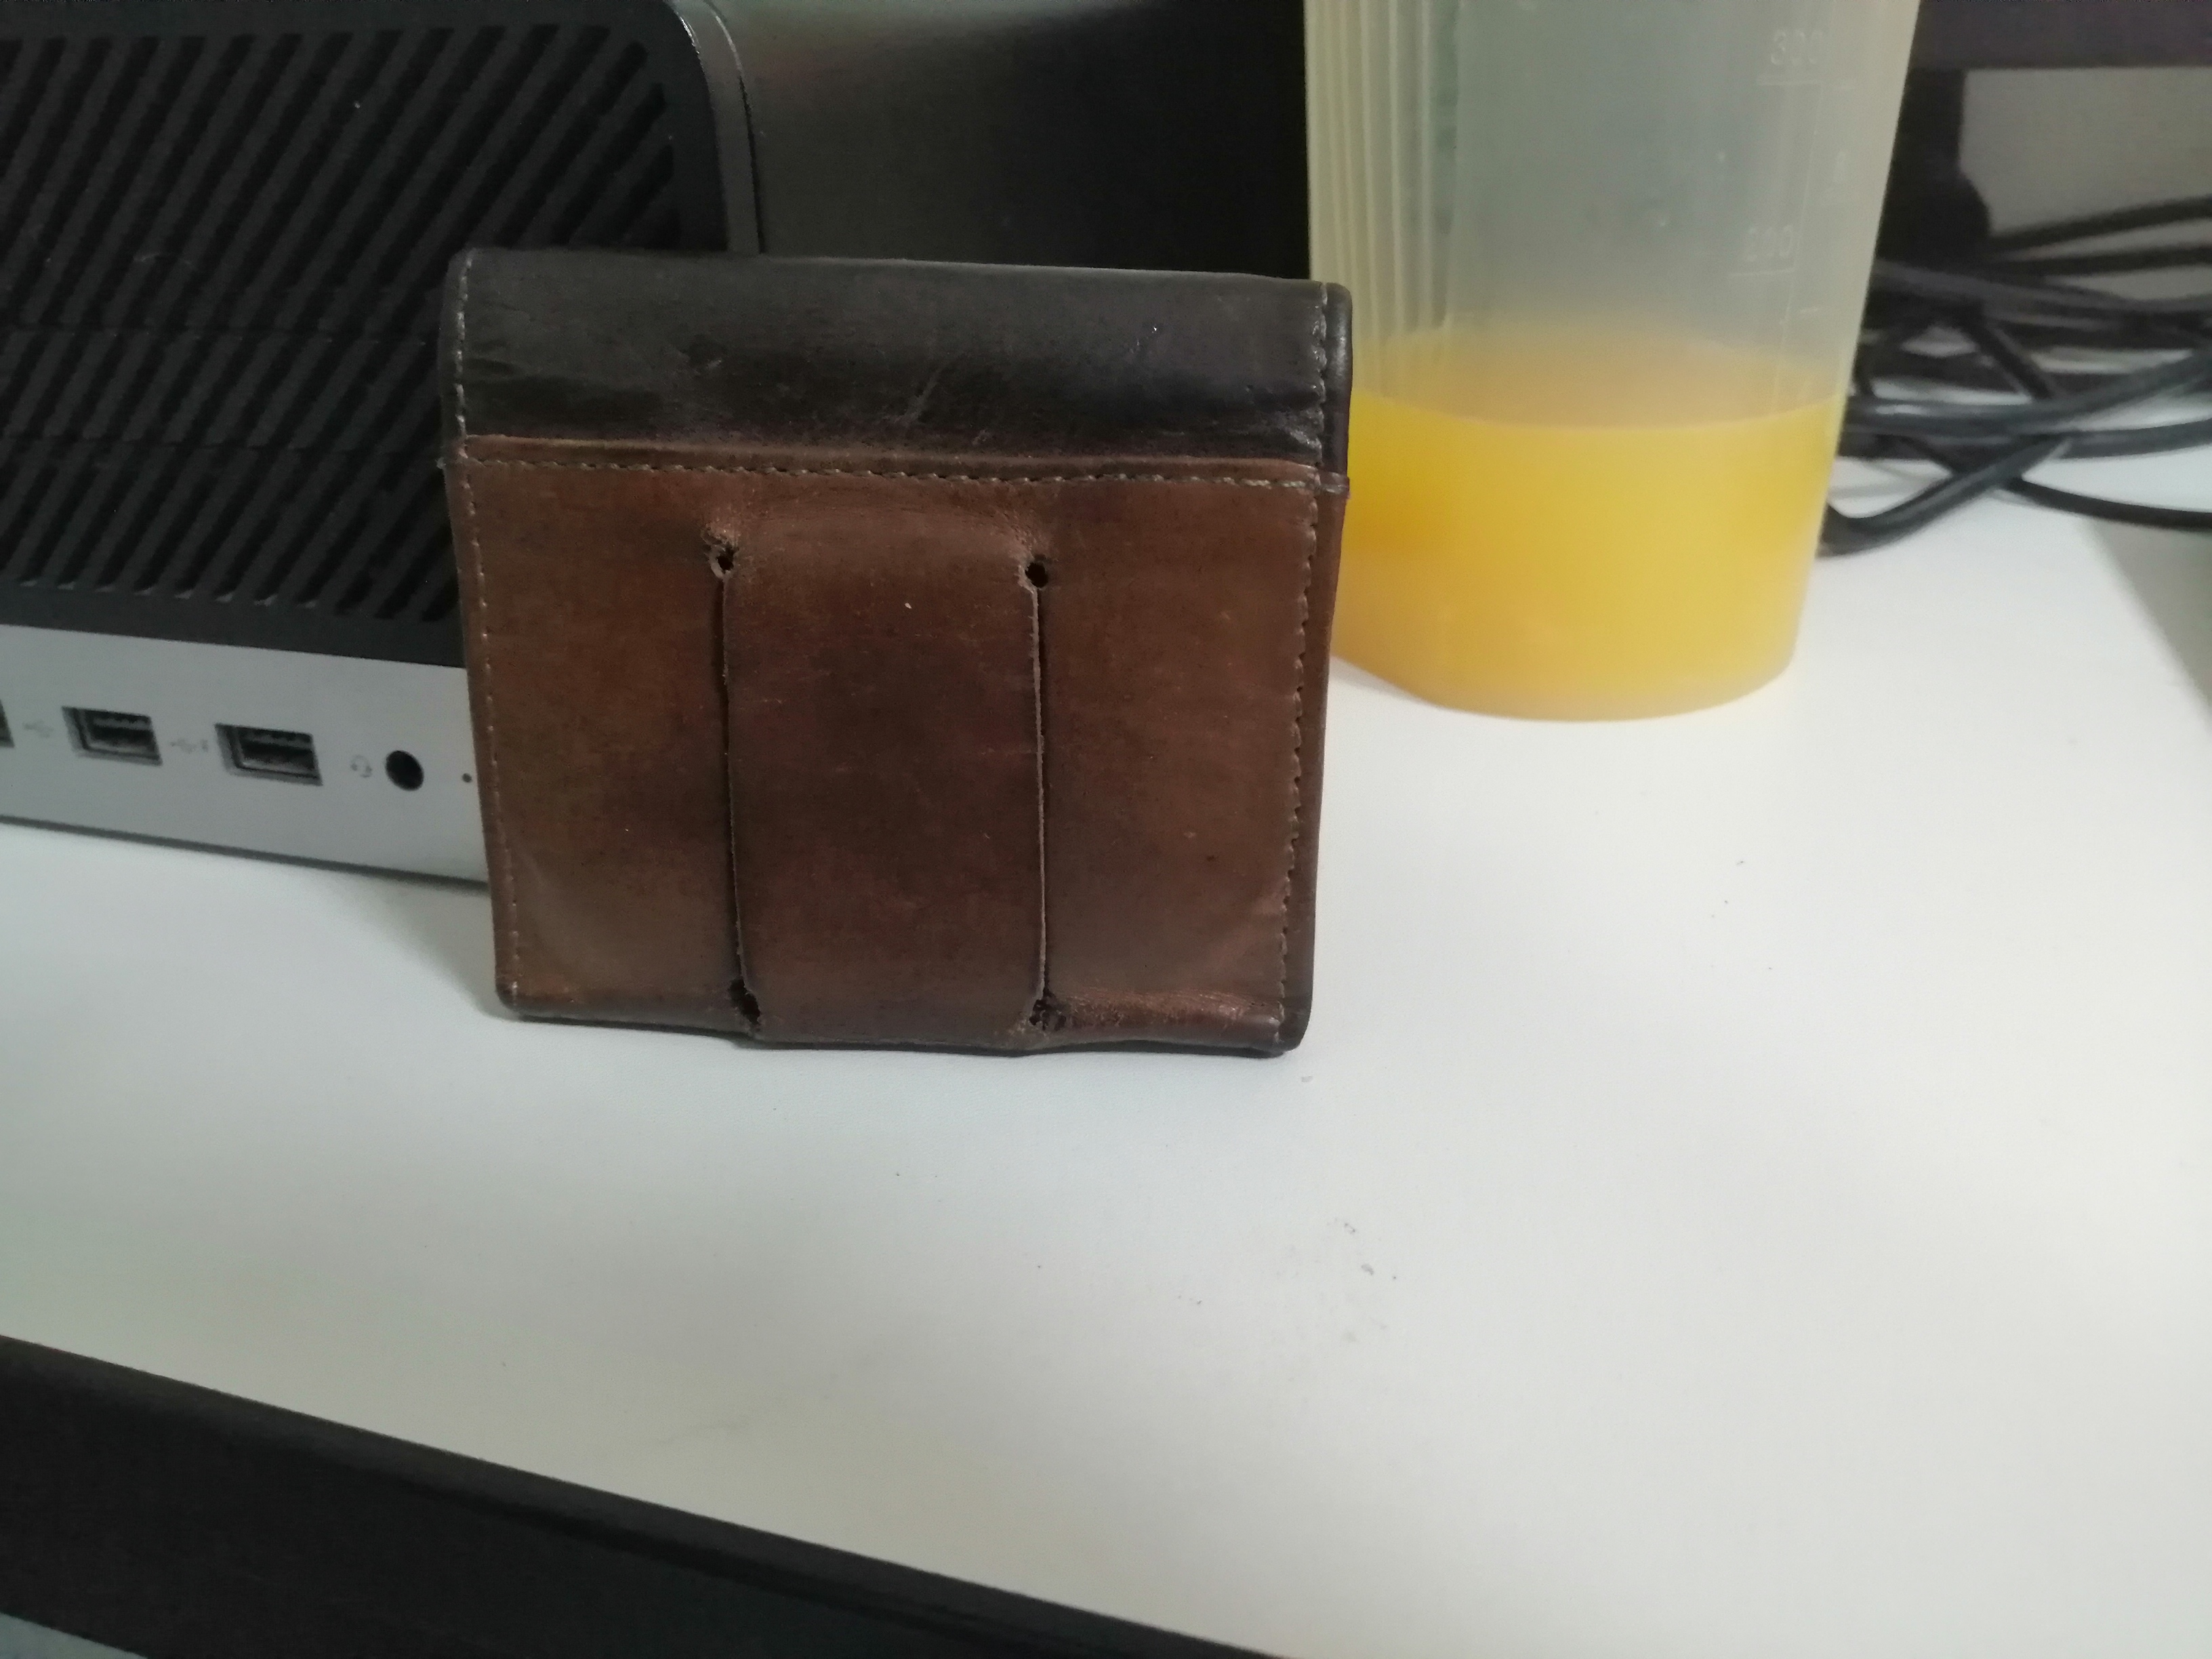monedero: (411, 218, 1388, 1114)
